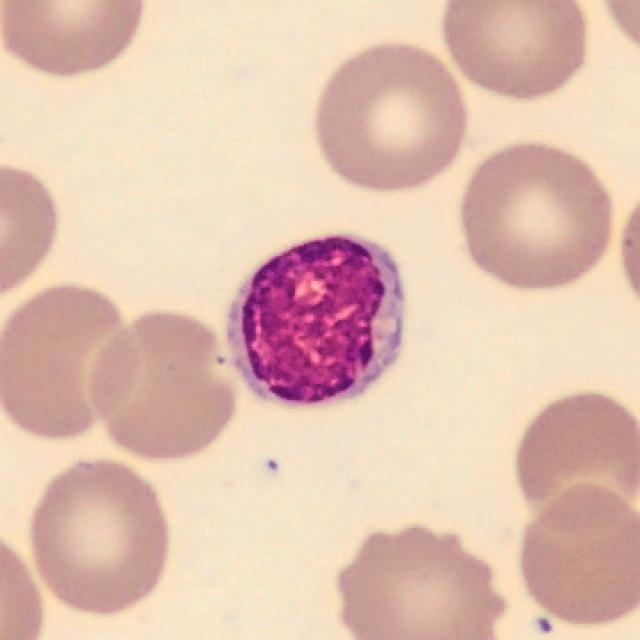Linfocito: (229, 236, 402, 404)
